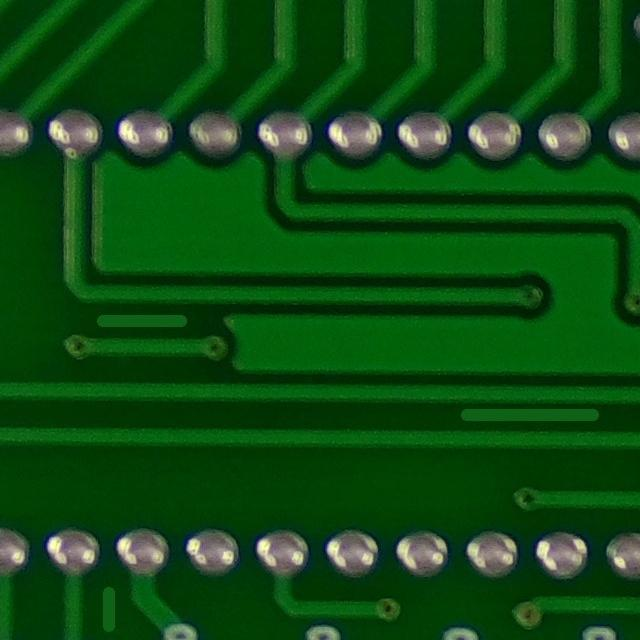spurious_copper: (442, 382, 612, 454), (79, 287, 209, 354), (79, 573, 135, 639)
